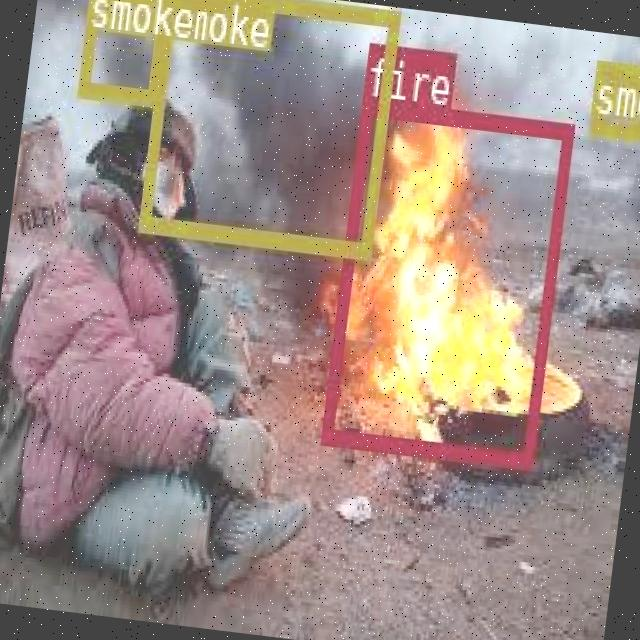fire: (319, 96, 573, 467)
smoke: (137, 0, 398, 257), (75, 0, 169, 102), (586, 58, 640, 137)
